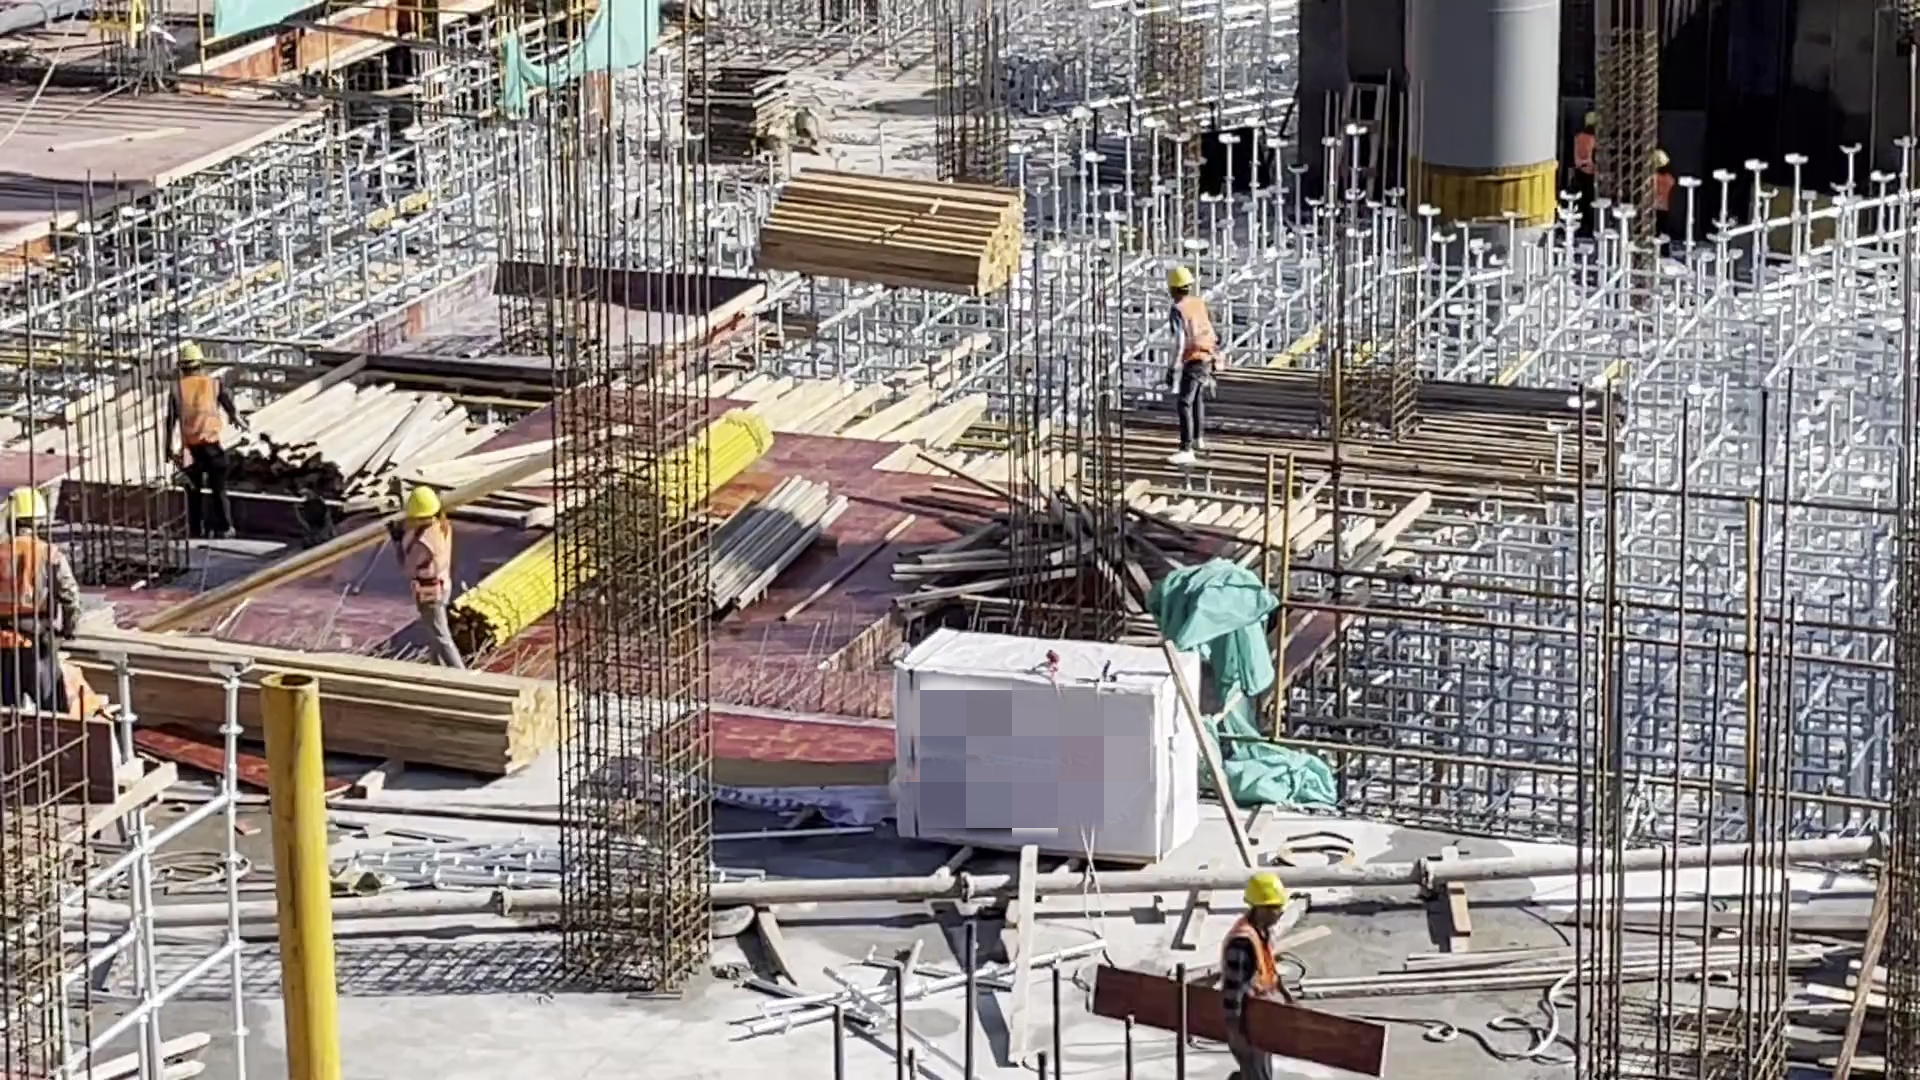helmet: (393, 486, 451, 521), (1254, 876, 1289, 919), (186, 351, 203, 374), (1656, 153, 1676, 171), (1171, 273, 1193, 289), (1584, 113, 1599, 124)
person: (359, 476, 476, 666), (1, 489, 92, 721), (1147, 261, 1231, 448), (181, 316, 254, 523), (1224, 866, 1291, 1070), (1571, 101, 1604, 200), (1652, 133, 1677, 256)
vest: (1, 522, 48, 654), (1218, 914, 1286, 996), (1164, 291, 1219, 376), (408, 522, 453, 602), (183, 372, 211, 446), (1646, 176, 1676, 217), (1573, 134, 1589, 184)
